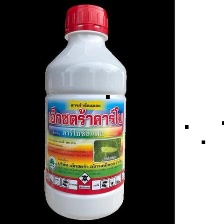book: (40, 2, 126, 221)
